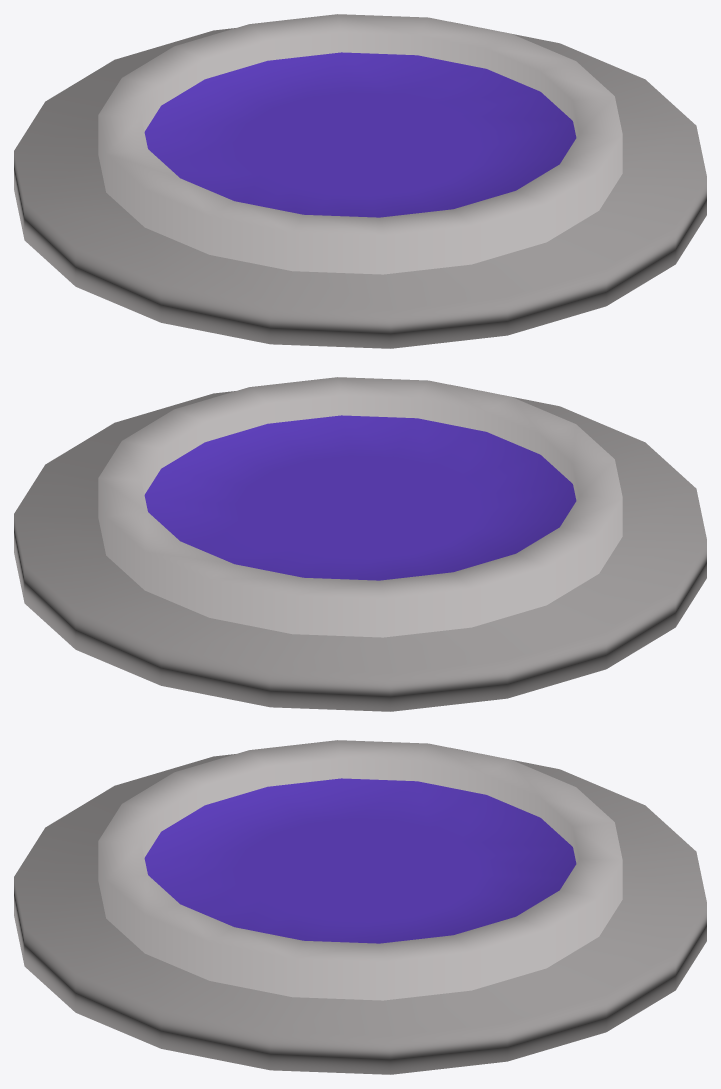
File: teleport_blue.fbx
The picture shows the model from 3 angles, top to bottom: view 1: azimuth 30°, elevation 25°; view 2: azimuth 150°, elevation 25°; view 3: azimuth 270°, elevation 25°; orthographic projection.
Parts seen in each view (by area): view 1: Circle; view 2: Circle; view 3: Circle.
Boxes of the visible parts, x1,y1,x2,y2 form: Circle: (14, 14, 706, 348); Circle: (14, 377, 706, 711); Circle: (14, 740, 706, 1074).
Size of the model in its own units: 5 by 0.6161 by 5.
